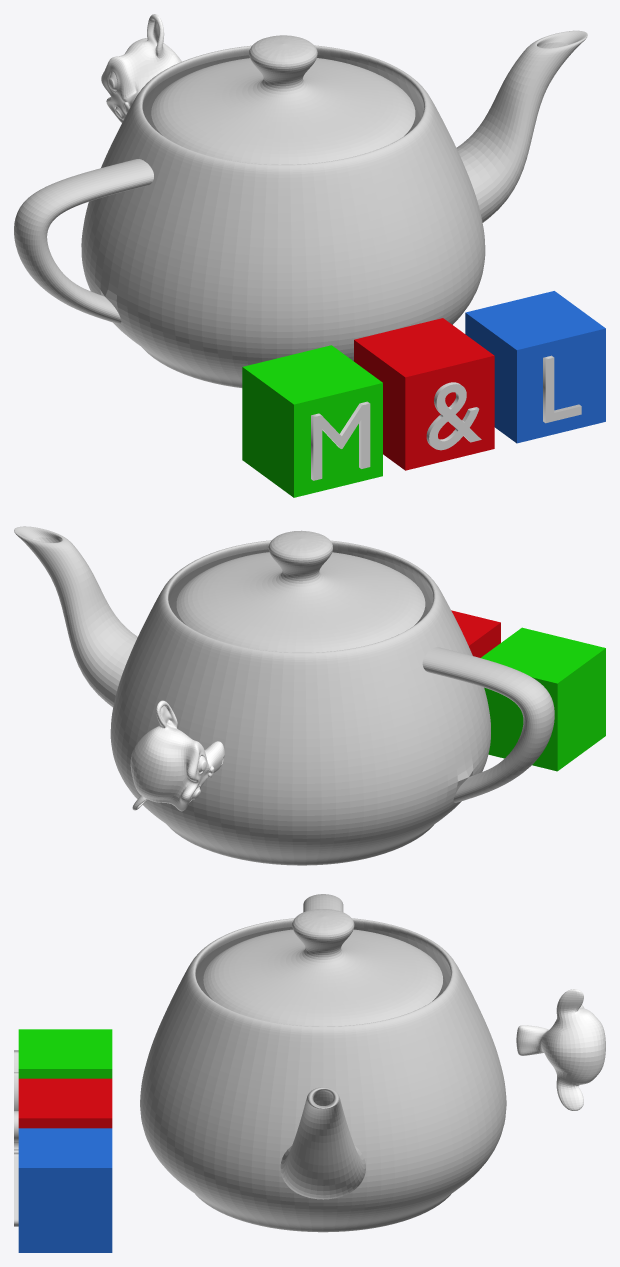
The picture shows the model from 3 angles, top to bottom: view 1: azimuth 30°, elevation 25°; view 2: azimuth 150°, elevation 25°; view 3: azimuth 270°, elevation 25°; orthographic projection. The views are drawn at different scales.
Parts seen in each view (by area): view 1: Teapot, Cube, Cube.002, Cube.001, Suzanne, Text, Text.001, Text.002; view 2: Teapot, Cube, Suzanne, Cube.001; view 3: Teapot, Cube.002, Suzanne, Cube.001, Cube.
Boxes of the visible parts, x1,y1,x2,y2 form: Teapot: (14,30,587,387); Cube: (242,345,382,497); Cube.002: (465,291,605,443); Cube.001: (354,318,494,470); Suzanne: (101,14,181,122); Text: (311,401,370,480); Text.001: (426,382,481,450); Text.002: (543,355,581,423); Teapot: (14,526,554,865); Cube: (481,627,605,771); Suzanne: (130,700,224,811); Cube.001: (451,610,500,657); Teapot: (140,894,506,1232); Cube.002: (18,1128,112,1252); Suzanne: (516,989,605,1110); Cube.001: (18,1078,112,1128); Cube: (18,1029,112,1078).
Bounding box in the file's own units: 12.75 × 6.29 × 12.63.
